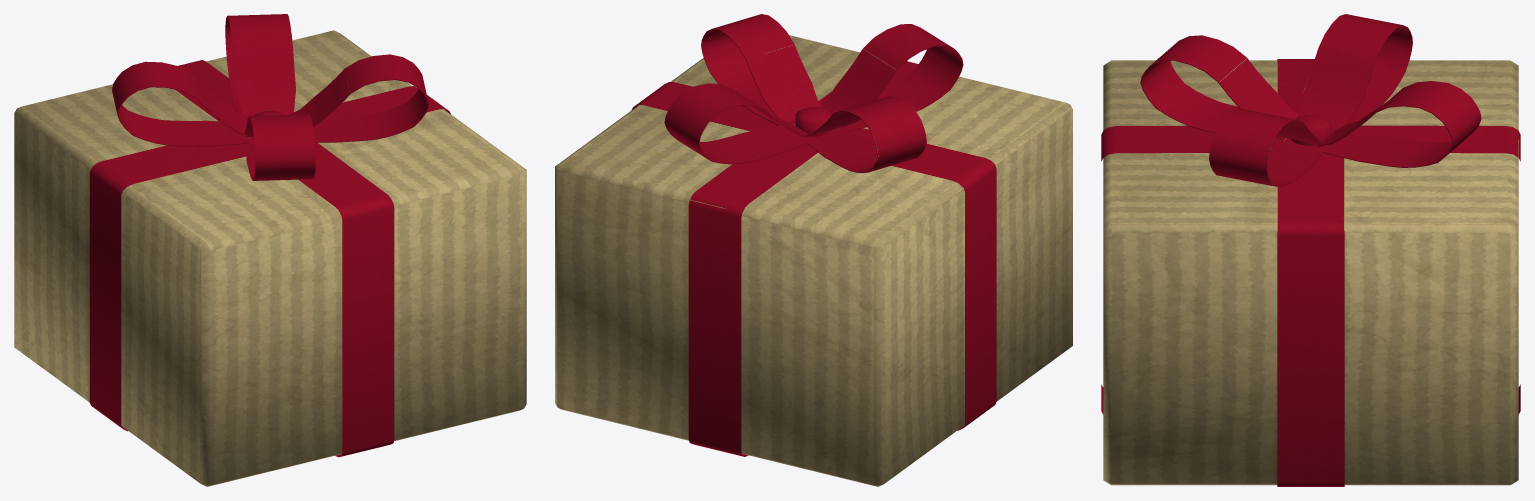
File: gift.gltf
The picture shows the model from 3 angles, left to right: view 1: azimuth 30°, elevation 25°; view 2: azimuth 150°, elevation 25°; view 3: azimuth 270°, elevation 25°; orthographic projection. The views are drawn at different scales.
Parts seen in each view (by area): view 1: christmas present; view 2: christmas present; view 3: christmas present.
Part boxes in pixels (x1,y1,x2,y2): christmas present: (14,14,526,486); christmas present: (555,14,1072,486); christmas present: (1101,14,1520,486).
Size of the model in its own units: 2.06 by 1.87 by 2.12.
1 material, 1 textured.
